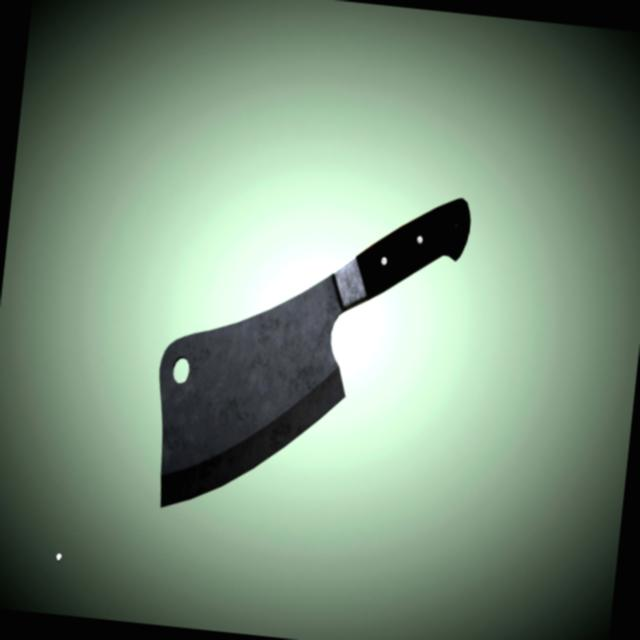cleaver: (146, 169, 476, 547)
